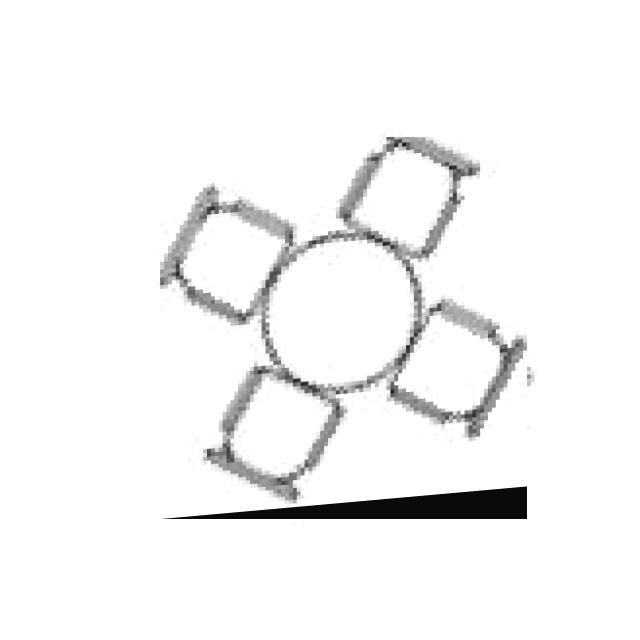table: (160, 137, 527, 519)
